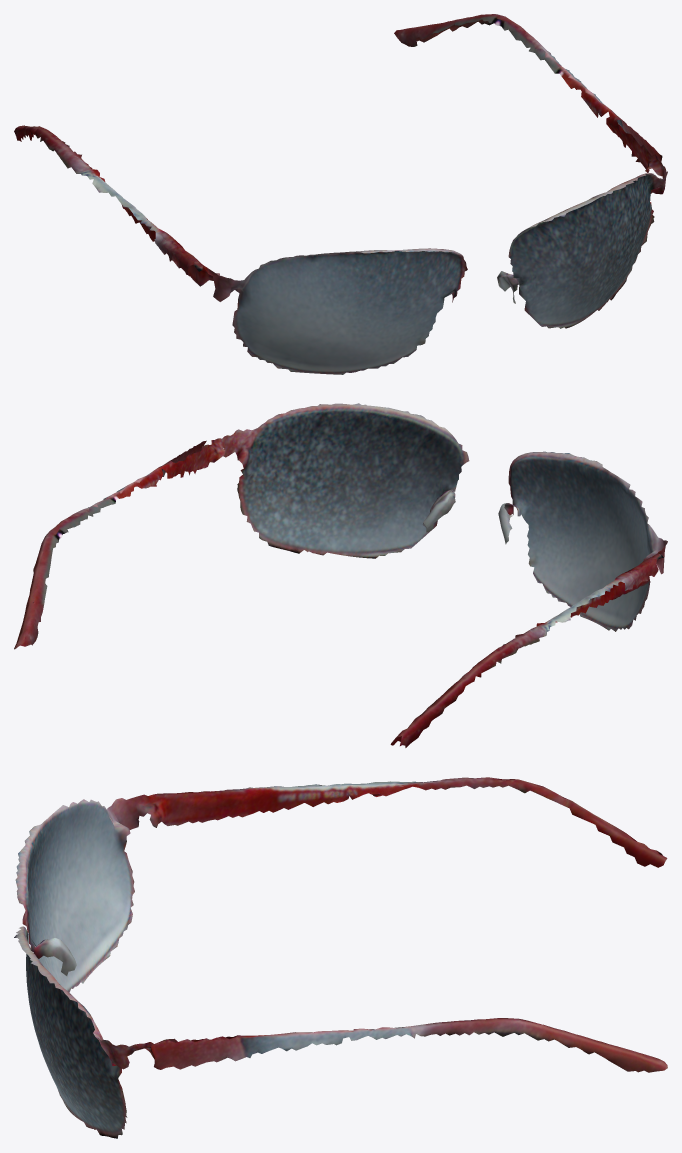
The model's file is scan_align.obj.
The picture shows the model from 3 angles, top to bottom: view 1: azimuth 30°, elevation 25°; view 2: azimuth 150°, elevation 25°; view 3: azimuth 270°, elevation 25°; orthographic projection. The views are drawn at different scales.
Size of the model in its own units: 0.1452 by 0.0408 by 0.153.
Materials: 1 (1 with a texture image).
